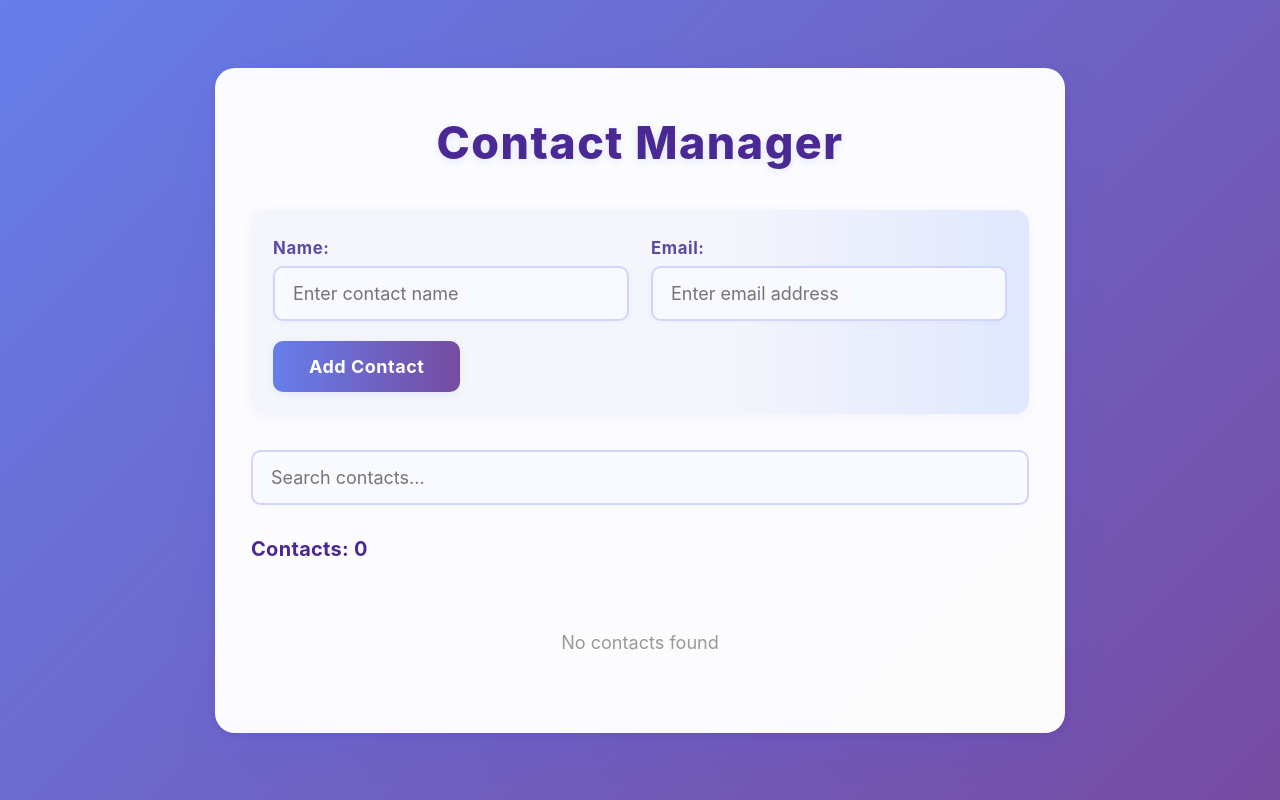
Contact Manager App - Complete Tests › Form Validation › shows error for invalid email
The width and height of the screenshot is (1280, 800).
// Fill form with invalid email
Type "John Doe" into the field labelled "Name:" at (451, 294), box [273,266,629,321]
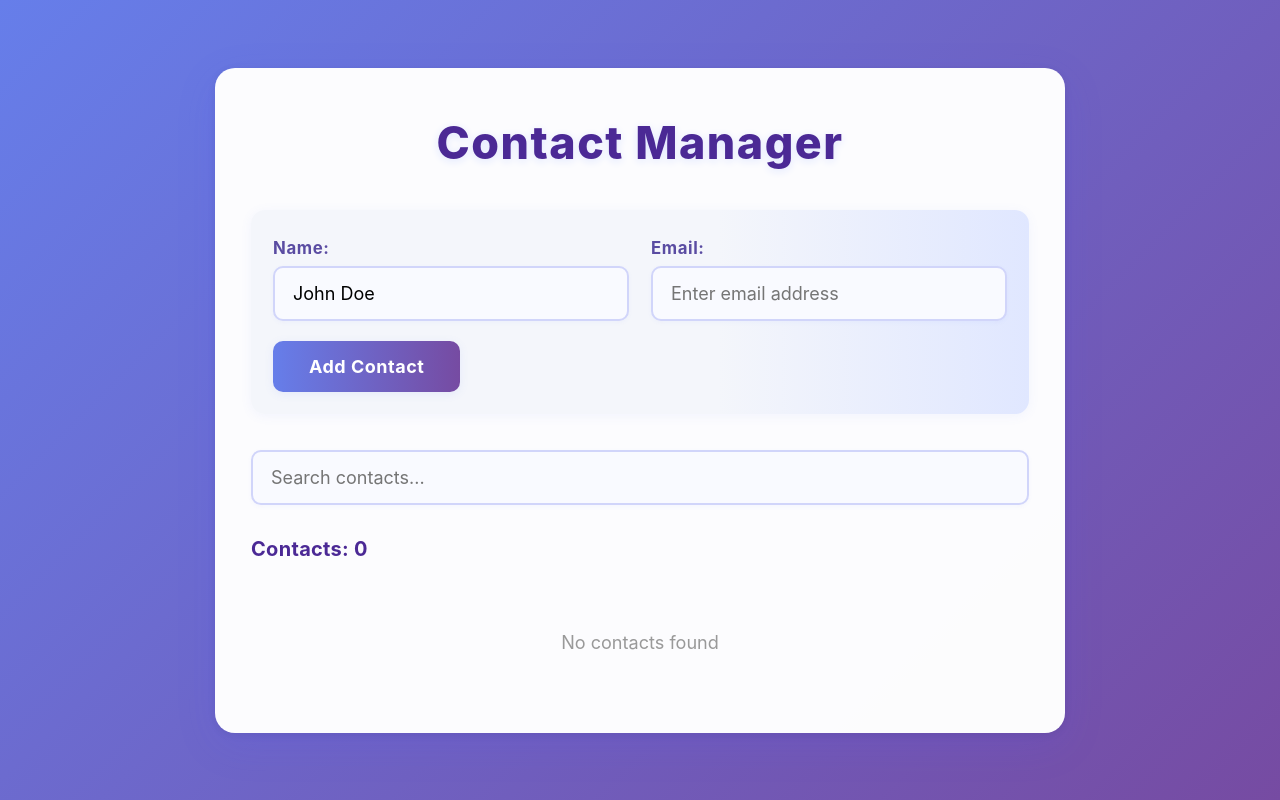
Type "invalid-email" into the field labelled "Email:" at (829, 294), box [651,266,1007,321]
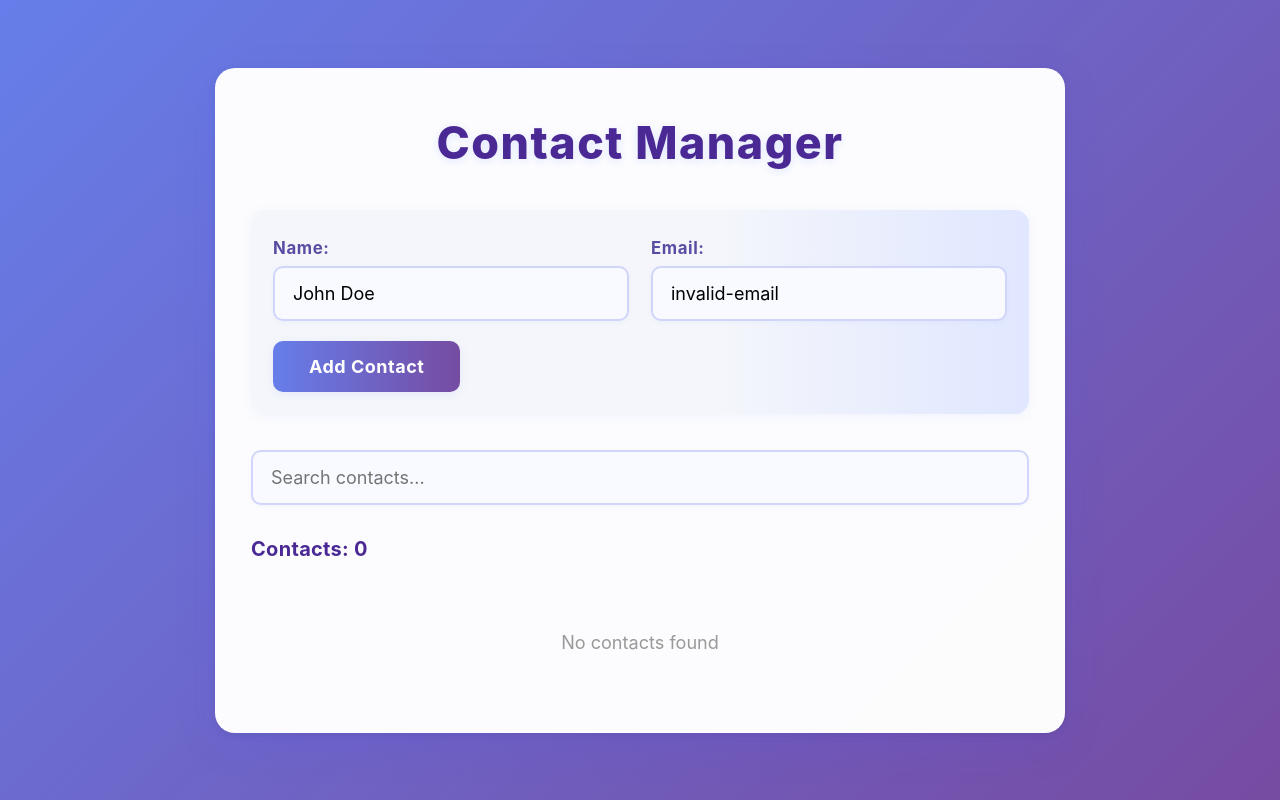
Click the button "Add Contact" at (367, 366), box [273,341,460,392]
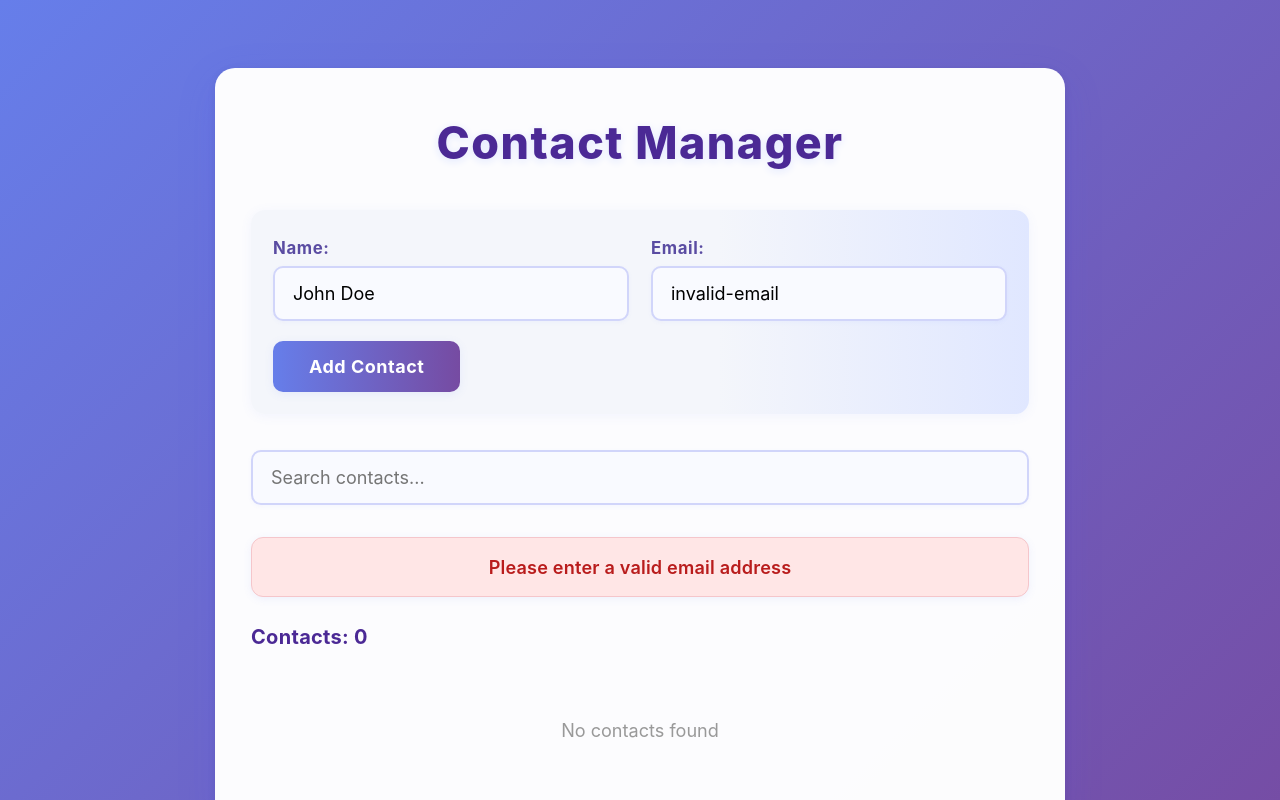
Expected: the text "Please enter a valid email address" is shown, [251,537,1029,597]
